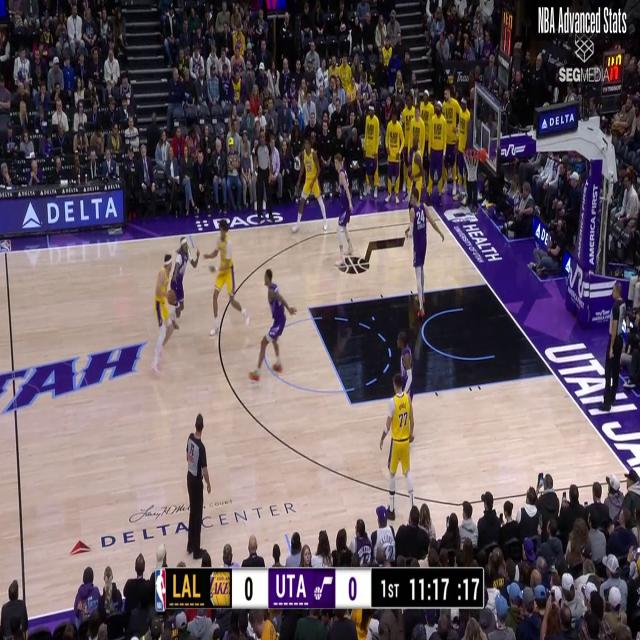ball: (167, 289, 177, 305)
judge: (186, 416, 212, 553), (602, 286, 626, 411), (254, 125, 275, 222)
player: (403, 182, 445, 322), (249, 267, 296, 384), (202, 222, 248, 340), (380, 378, 416, 507), (294, 137, 334, 236), (151, 253, 180, 375), (332, 150, 357, 274), (169, 237, 199, 330), (394, 330, 414, 453), (408, 136, 422, 241)
